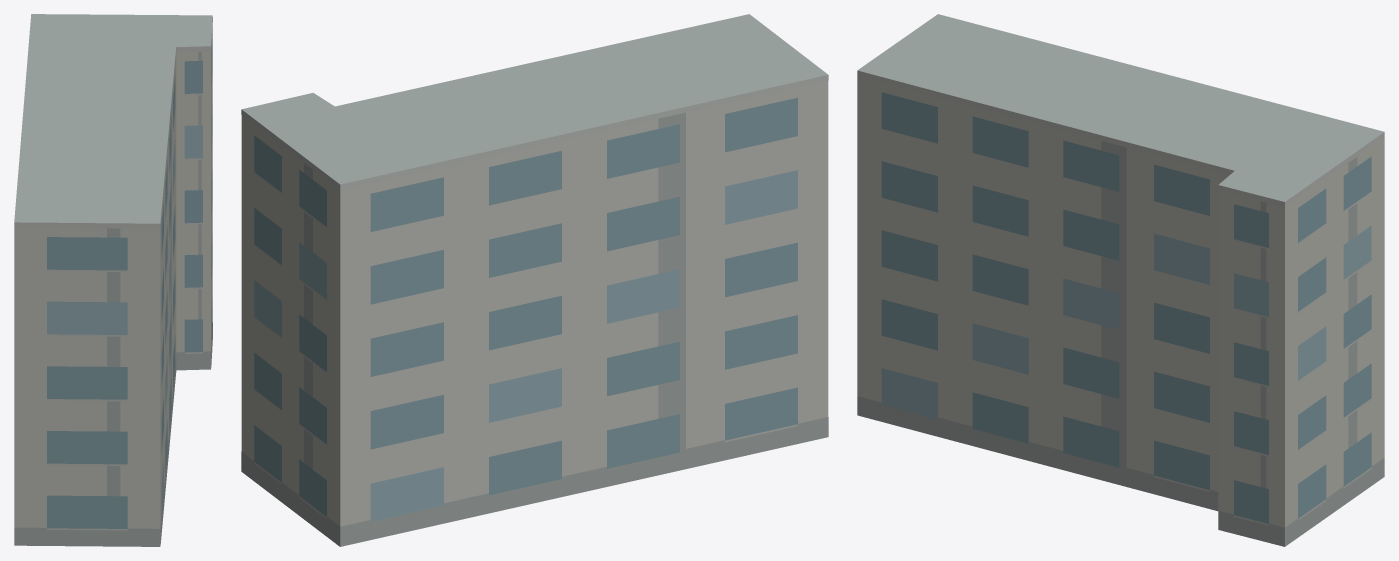
File: survey-upis-32843772.glb
3 renders of one model, left to right at view 1: azimuth 30°, elevation 25°; view 2: azimuth 150°, elevation 25°; view 3: azimuth 270°, elevation 25°, orthographic. The views are drawn at different scales.
Parts seen in each view (by area): view 1: survey-upis-32843772.tmp; view 2: survey-upis-32843772.tmp; view 3: survey-upis-32843772.tmp.
Boxes of the visible parts, <box> form: survey-upis-32843772.tmp: <box>14,14,212,546</box>; survey-upis-32843772.tmp: <box>241,14,828,546</box>; survey-upis-32843772.tmp: <box>857,14,1384,546</box>.
Bounding box in the file's own units: 17.84 × 15.25 × 21.14.
